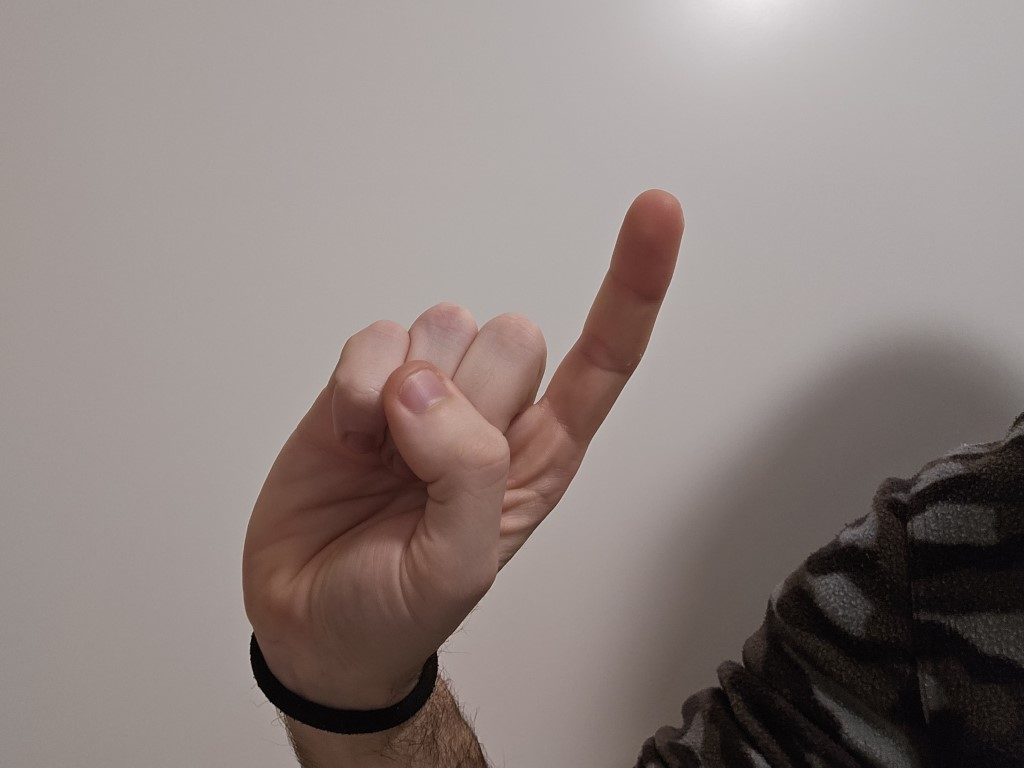z: (206, 165, 724, 668)
